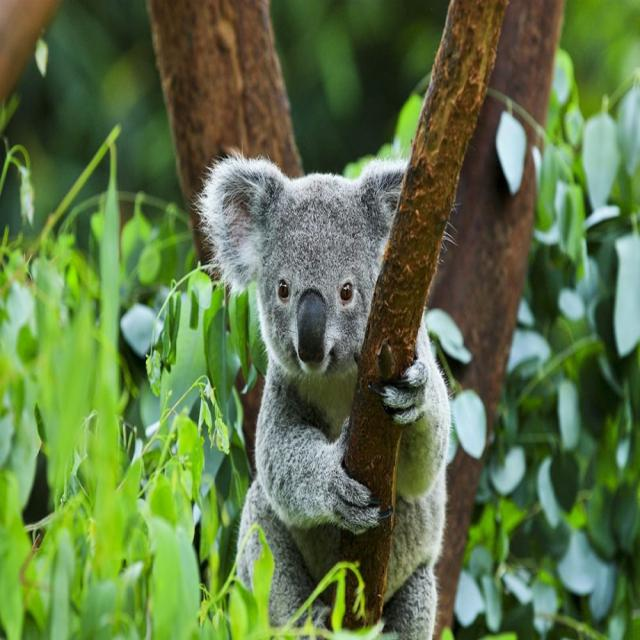Koala: (194, 144, 455, 630)
